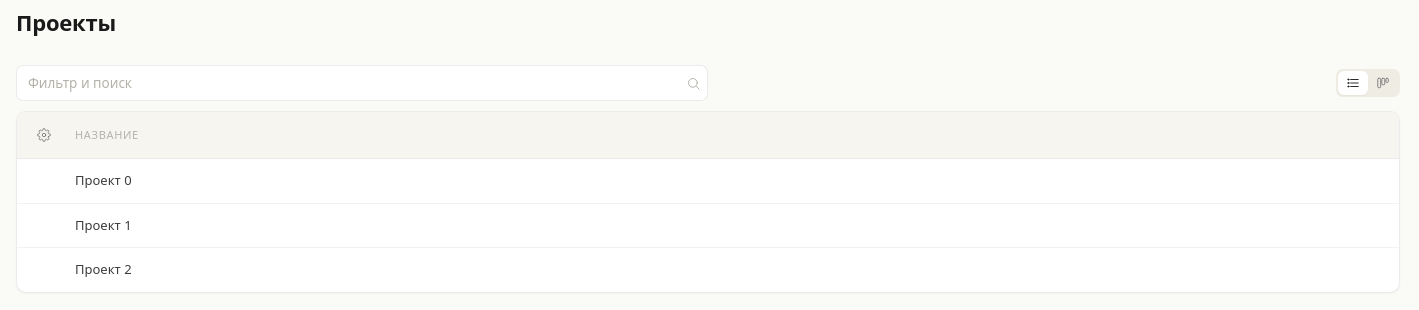
Test case: ListPage — доска › переключатель появляется даже без карточек
Check: the table is shown, box x1=17 y1=112 x2=1399 y2=292
Click the button titled "Доска" at x=1383, y=83, box x1=1368 y1=71 x2=1398 y2=95
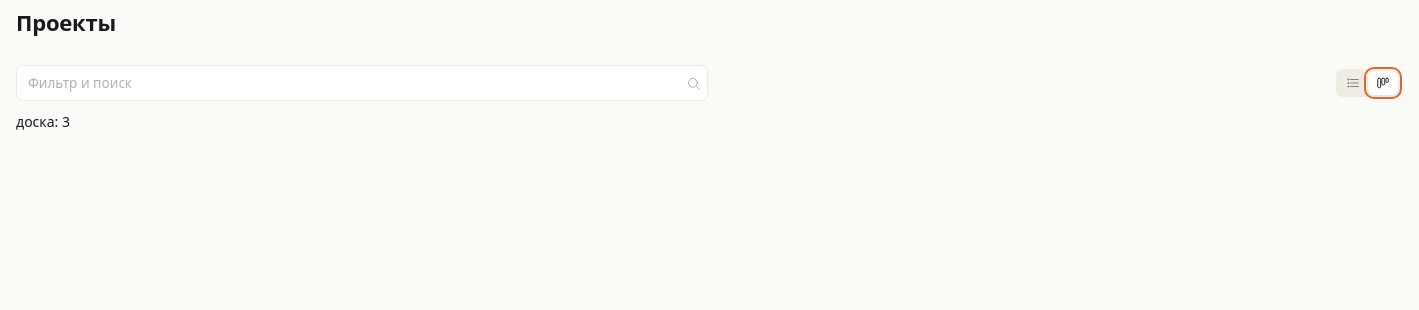
Check: the text "доска: 3" is shown, box x1=16 y1=112 x2=70 y2=131
